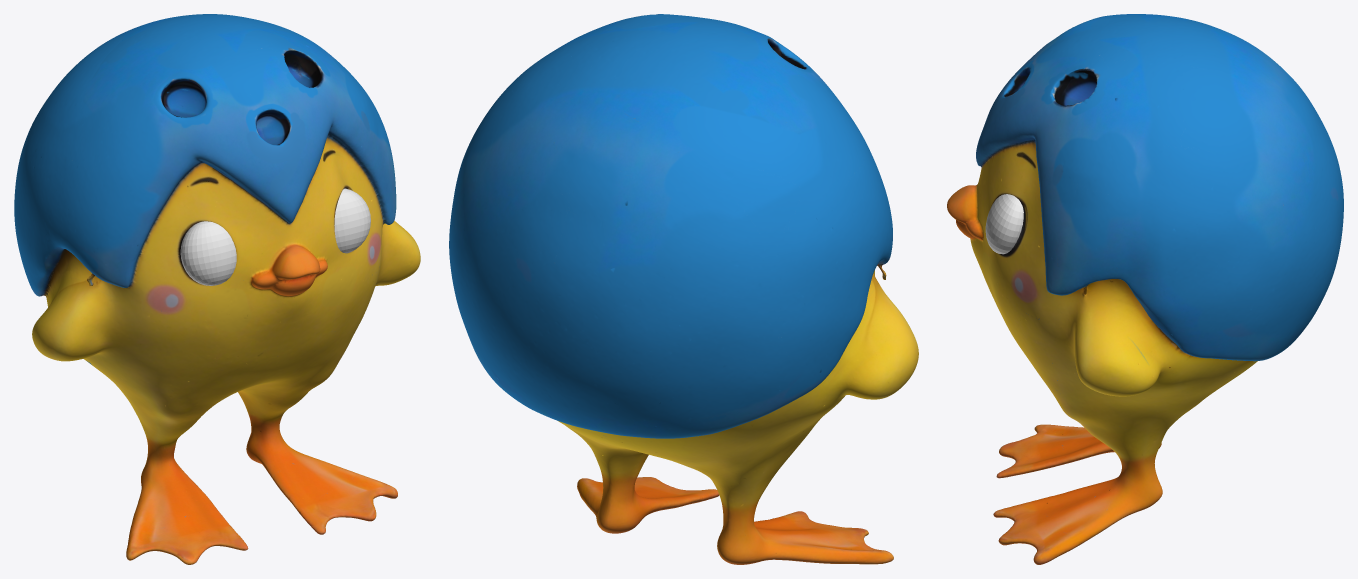
File: pippo_eye_custom.glb
The picture shows the model from 3 angles, left to right: view 1: azimuth 30°, elevation 25°; view 2: azimuth 150°, elevation 25°; view 3: azimuth 270°, elevation 25°; orthographic projection. The views are drawn at different scales.
Parts seen in each view (by area): view 1: Pippo_Body, eye_R, eye_L; view 2: Pippo_Body; view 3: Pippo_Body, eye_L.
Part boxes in pixels (x1,y1,x2,y2): Pippo_Body: (14,14,420,564); eye_R: (180,221,236,285); eye_L: (334,188,370,253); Pippo_Body: (449,14,918,564); Pippo_Body: (947,14,1343,564); eye_L: (985,194,1023,254).
Bounding box in the file's own units: 1.7 × 2 × 1.55.
1 material, 1 textured.
